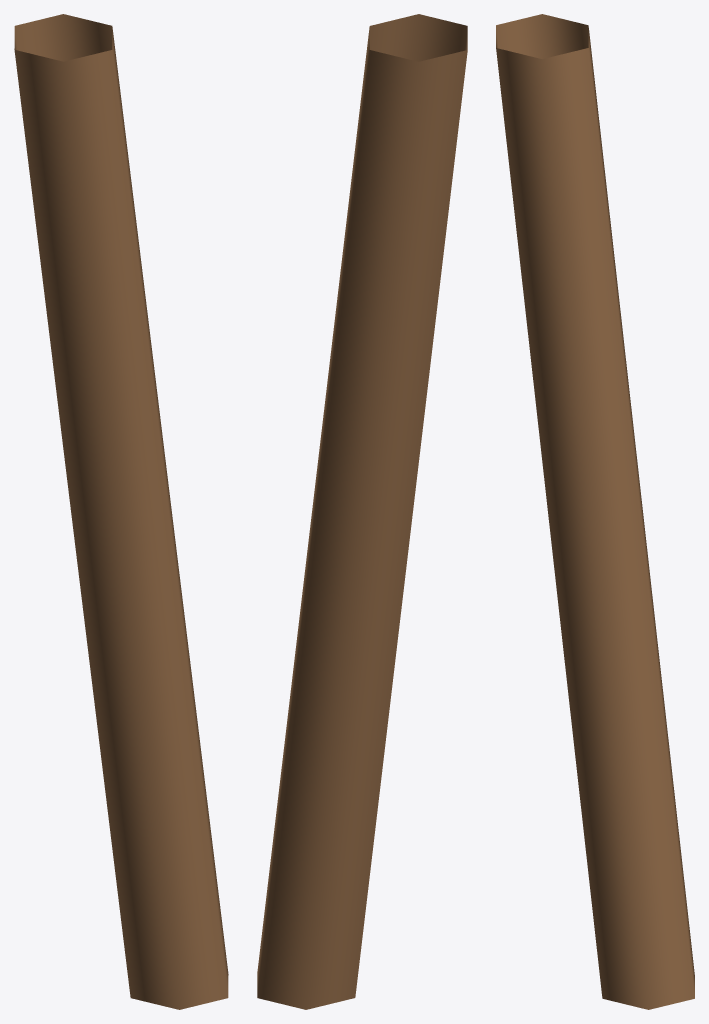
File: root_splitter_3.glb
The picture shows the model from 3 angles, left to right: view 1: azimuth 30°, elevation 25°; view 2: azimuth 150°, elevation 25°; view 3: azimuth 330°, elevation 25°; orthographic projection. The views are drawn at different scales.
Parts seen in each view (by area): view 1: root_splitter_3; view 2: root_splitter_3; view 3: root_splitter_3.
Boxes of the visible parts, x1=… form: root_splitter_3: x1=14, y1=14, x2=228, y2=1009; root_splitter_3: x1=257, y1=14, x2=467, y2=1009; root_splitter_3: x1=496, y1=14, x2=694, y2=1009.
Bounding box in the file's own units: 0.0743 × 0.3264 × 0.0308.
